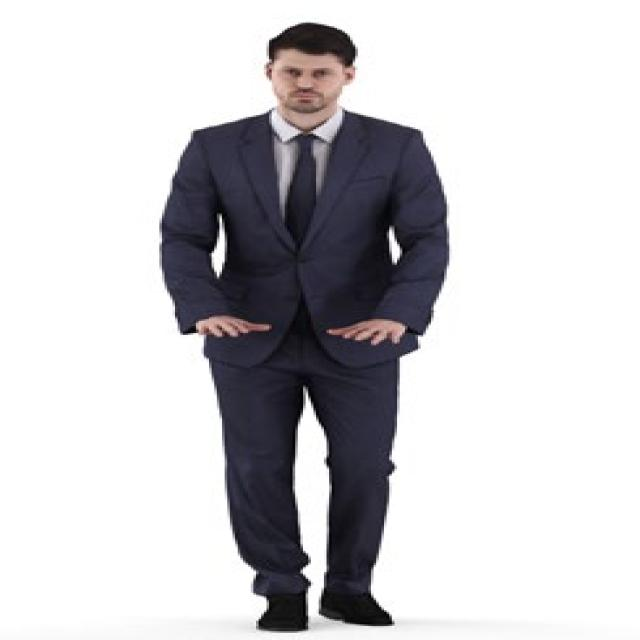standing: (154, 18, 456, 632)
